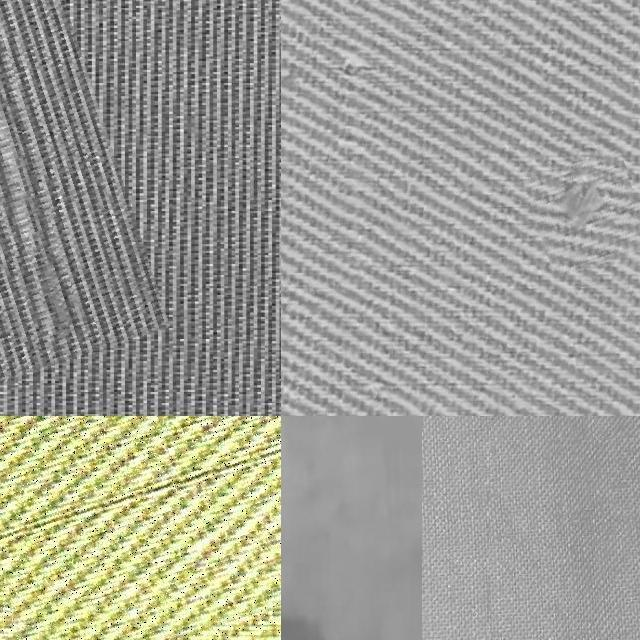Hole: (281, 576, 389, 640)
Thread_other: (0, 416, 281, 640)
seam: (528, 155, 640, 272)
